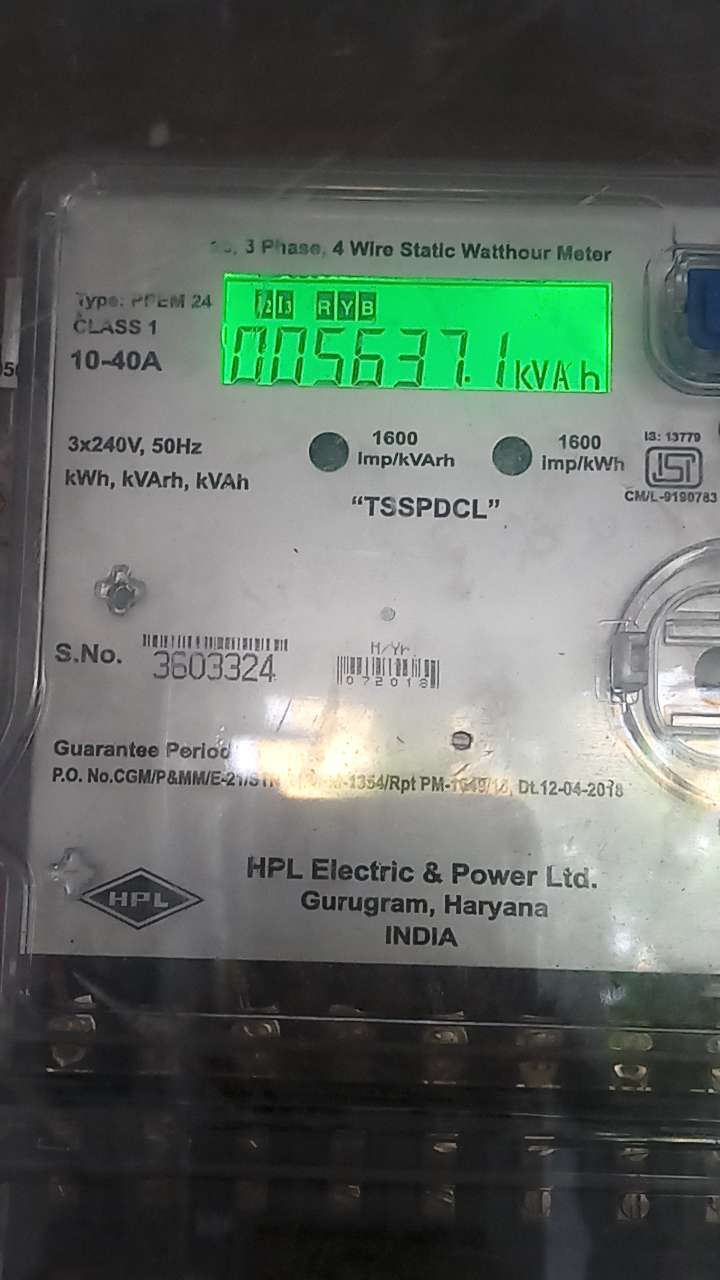meter_serial_number: (142, 646, 284, 690)
